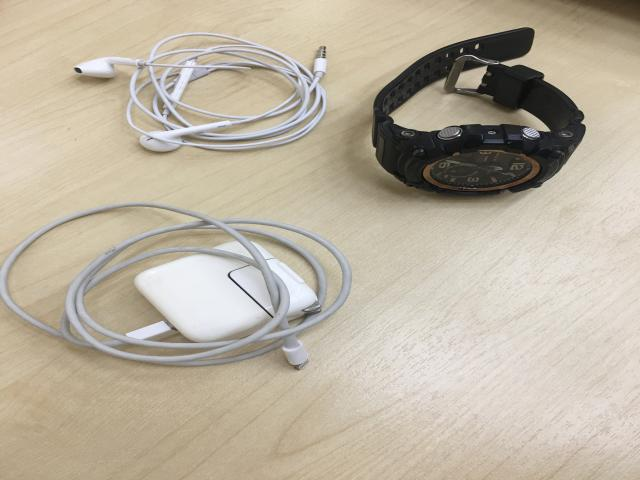Watch: (370, 29, 585, 196)
wire: (0, 204, 351, 368), (79, 35, 327, 154)
